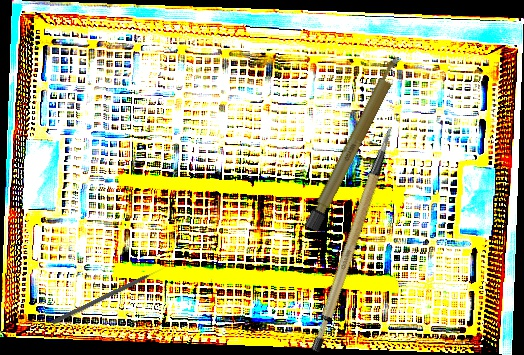Hook Surgical: (51, 266, 167, 326)
Scalpel Handle: (281, 124, 429, 355), (304, 53, 406, 233)
